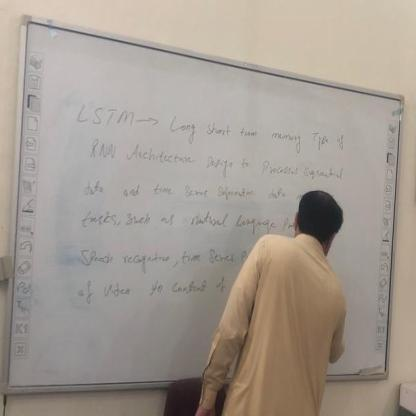Handwritten text: (70, 95, 355, 166), (82, 133, 352, 198), (76, 174, 294, 210), (74, 204, 278, 242), (74, 239, 239, 273), (74, 272, 232, 305)
Lecturer: (234, 182, 353, 414)
Whiteboard: (5, 19, 406, 409)
